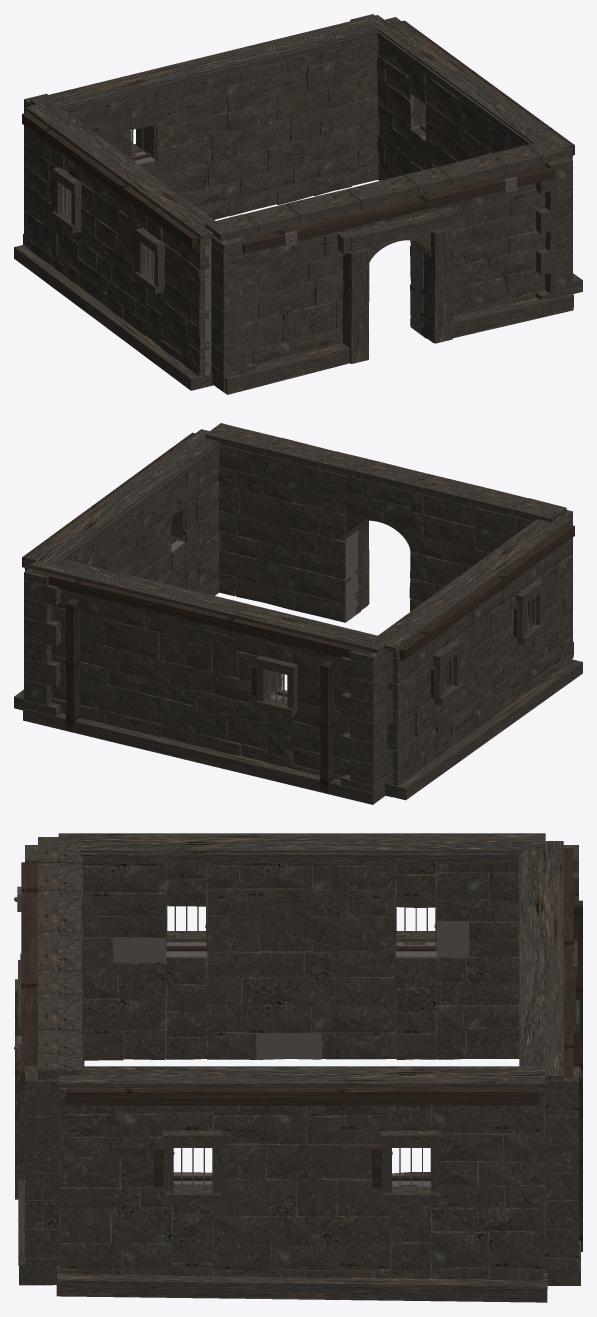
The model's file is blacksmith_four_walls_arched_v082.glb.
3 renders of one model, top to bottom at view 1: azimuth 30°, elevation 25°; view 2: azimuth 150°, elevation 25°; view 3: azimuth 270°, elevation 25°, orthographic. The views are drawn at different scales.
Parts seen in each view (by area): view 1: GENESIS_BATCH_Quarry basalt / dark warm PBR, GENESIS_BATCH_Soot deposits - char and oxide, GENESIS_BATCH_Basalt - mineral warm variance, GENESIS_BATCH_Blackened ironstone coping / dark scanned, GENESIS_BATCH_Oak / fire seasoned PBR, GENESIS_BATCH_Recessed stone mortar / dark, GENESIS_BATCH_Oxidized forged iron; view 2: GENESIS_BATCH_Quarry basalt / dark warm PBR, GENESIS_BATCH_Soot deposits - char and oxide, GENESIS_BATCH_Blackened ironstone coping / dark scanned, GENESIS_BATCH_Basalt - mineral warm variance, GENESIS_BATCH_Oak / fire seasoned PBR, GENESIS_BATCH_Recessed stone mortar / dark, GENESIS_BATCH_Oxidized forged iron, V082_ArchedSpandrel_RealStone_LeavesDoorClear; view 3: GENESIS_BATCH_Quarry basalt / dark warm PBR, GENESIS_BATCH_Soot deposits - char and oxide, GENESIS_BATCH_Basalt - mineral warm variance, GENESIS_BATCH_Blackened ironstone coping / dark scanned, GENESIS_BATCH_Oak / fire seasoned PBR, GENESIS_BATCH_Recessed stone mortar / dark, GENESIS_BATCH_Oxidized forged iron.
Boxes of the visible parts, bbox=[...] form: GENESIS_BATCH_Quarry basalt / dark warm PBR: bbox=[14, 38, 572, 394]; GENESIS_BATCH_Soot deposits - char and oxide: bbox=[24, 46, 573, 380]; GENESIS_BATCH_Basalt - mineral warm variance: bbox=[24, 14, 582, 372]; GENESIS_BATCH_Blackened ironstone coping / dark scanned: bbox=[25, 15, 571, 241]; GENESIS_BATCH_Oak / fire seasoned PBR: bbox=[22, 16, 574, 266]; GENESIS_BATCH_Recessed stone mortar / dark: bbox=[68, 64, 491, 374]; GENESIS_BATCH_Oxidized forged iron: bbox=[58, 129, 517, 280]; GENESIS_BATCH_Quarry basalt / dark warm PBR: bbox=[23, 445, 582, 804]; GENESIS_BATCH_Soot deposits - char and oxide: bbox=[24, 451, 573, 780]; GENESIS_BATCH_Blackened ironstone coping / dark scanned: bbox=[25, 423, 571, 653]; GENESIS_BATCH_Basalt - mineral warm variance: bbox=[14, 467, 572, 785]; GENESIS_BATCH_Oak / fire seasoned PBR: bbox=[22, 432, 574, 792]; GENESIS_BATCH_Recessed stone mortar / dark: bbox=[29, 477, 563, 797]; GENESIS_BATCH_Oxidized forged iron: bbox=[264, 596, 535, 703]; V082_ArchedSpandrel_RealStone_LeavesDoorClear: bbox=[346, 511, 410, 551]; GENESIS_BATCH_Quarry basalt / dark warm PBR: bbox=[15, 846, 580, 1285]; GENESIS_BATCH_Soot deposits - char and oxide: bbox=[18, 863, 578, 1280]; GENESIS_BATCH_Basalt - mineral warm variance: bbox=[15, 845, 578, 1302]; GENESIS_BATCH_Blackened ironstone coping / dark scanned: bbox=[38, 833, 563, 1090]; GENESIS_BATCH_Oak / fire seasoned PBR: bbox=[21, 848, 582, 1251]; GENESIS_BATCH_Recessed stone mortar / dark: bbox=[47, 863, 544, 1276]; GENESIS_BATCH_Oxidized forged iron: bbox=[14, 886, 435, 1189].
Bounding box in the file's own units: 8.91 × 3.4 × 8.08.
Materials: 8 (6 with a texture image).
